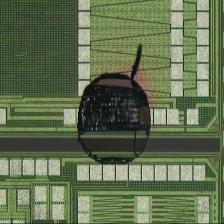PARTICLE: (76, 40, 155, 169)
